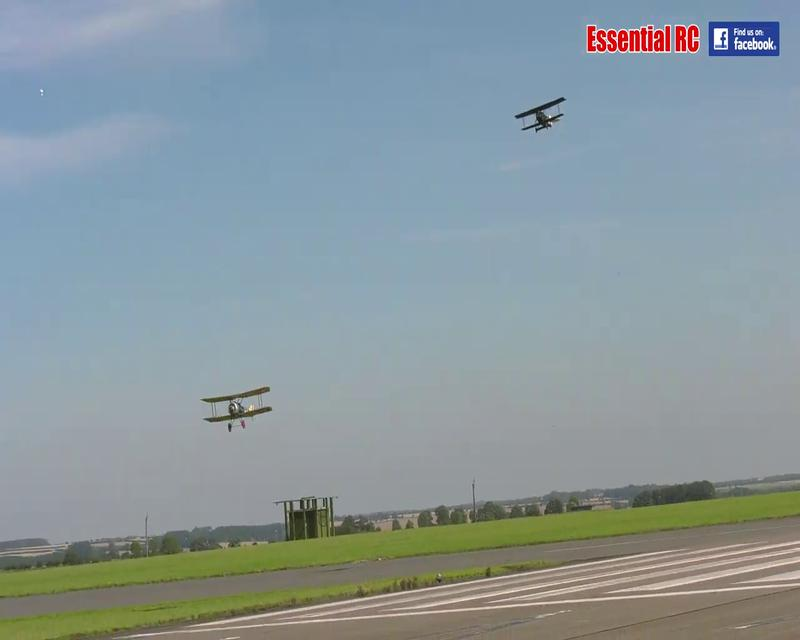UAV: (200, 384, 272, 433), (514, 90, 566, 134)
